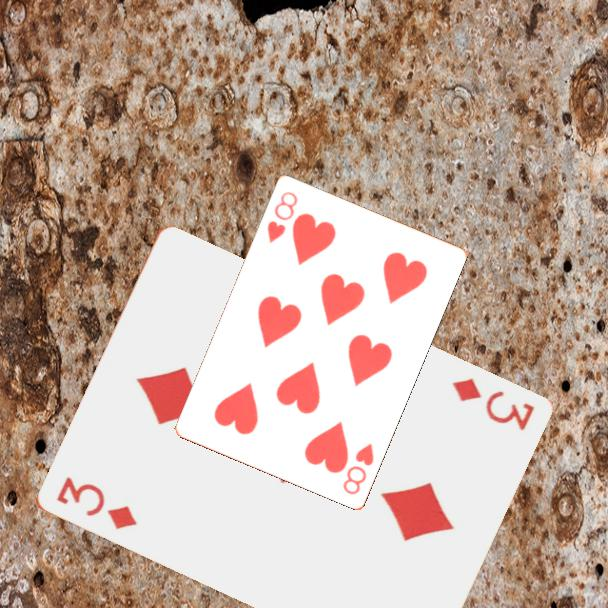d03: (448, 374, 537, 434), (52, 473, 140, 533)
h08: (263, 187, 301, 246), (339, 439, 377, 497)
